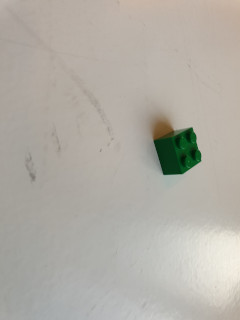2x2 green: (153, 126, 203, 175)
